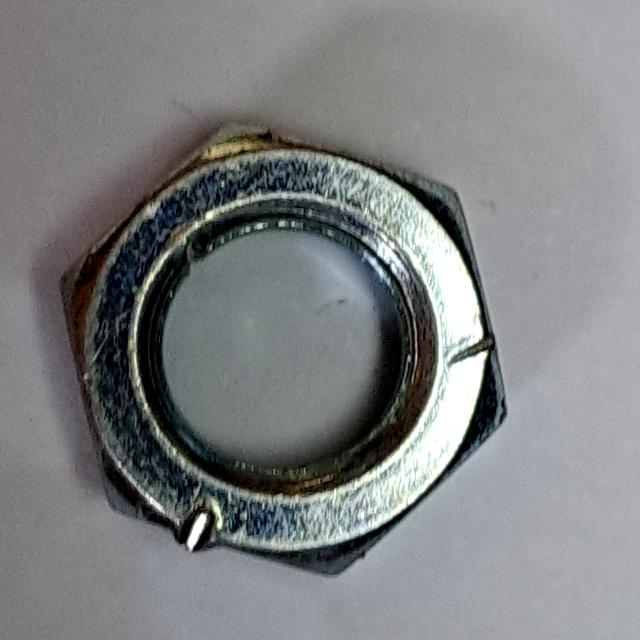Scratches: (49, 113, 517, 592)
